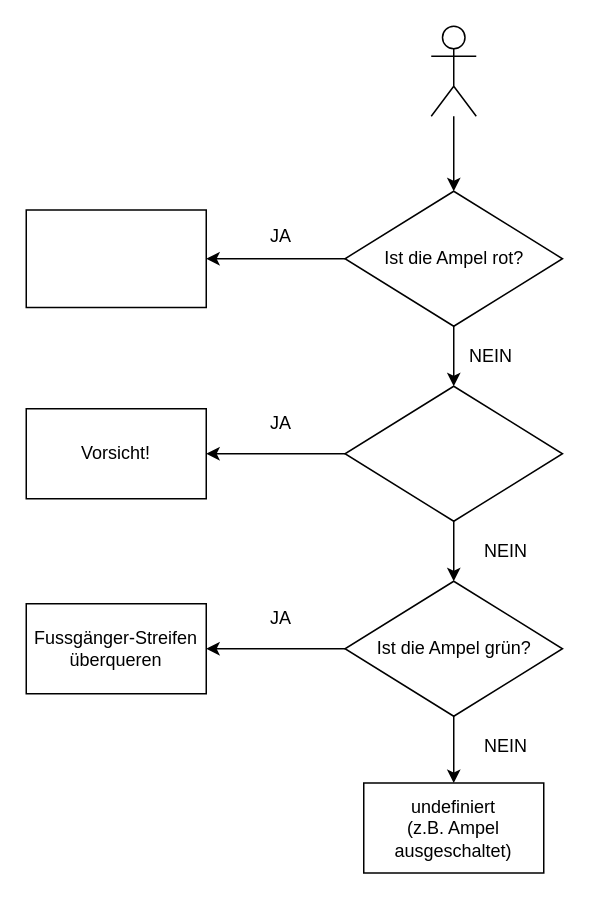
This 590x900 diagram has some shape labels left out. Each missing label, with the box of its shape:
Actor: (430, 25, 476, 116)
Ist die Ampel orange?: (344, 385, 562, 521)
Stehen bleiben!: (25, 208, 206, 308)
